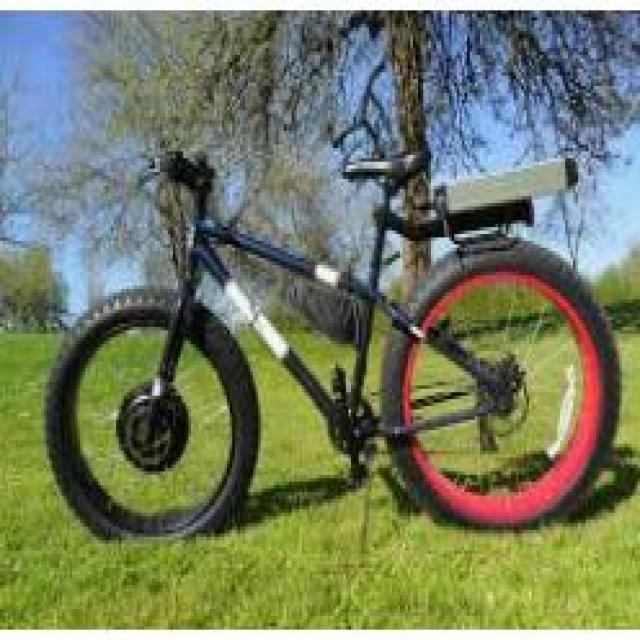bicycle: (35, 94, 621, 562)
